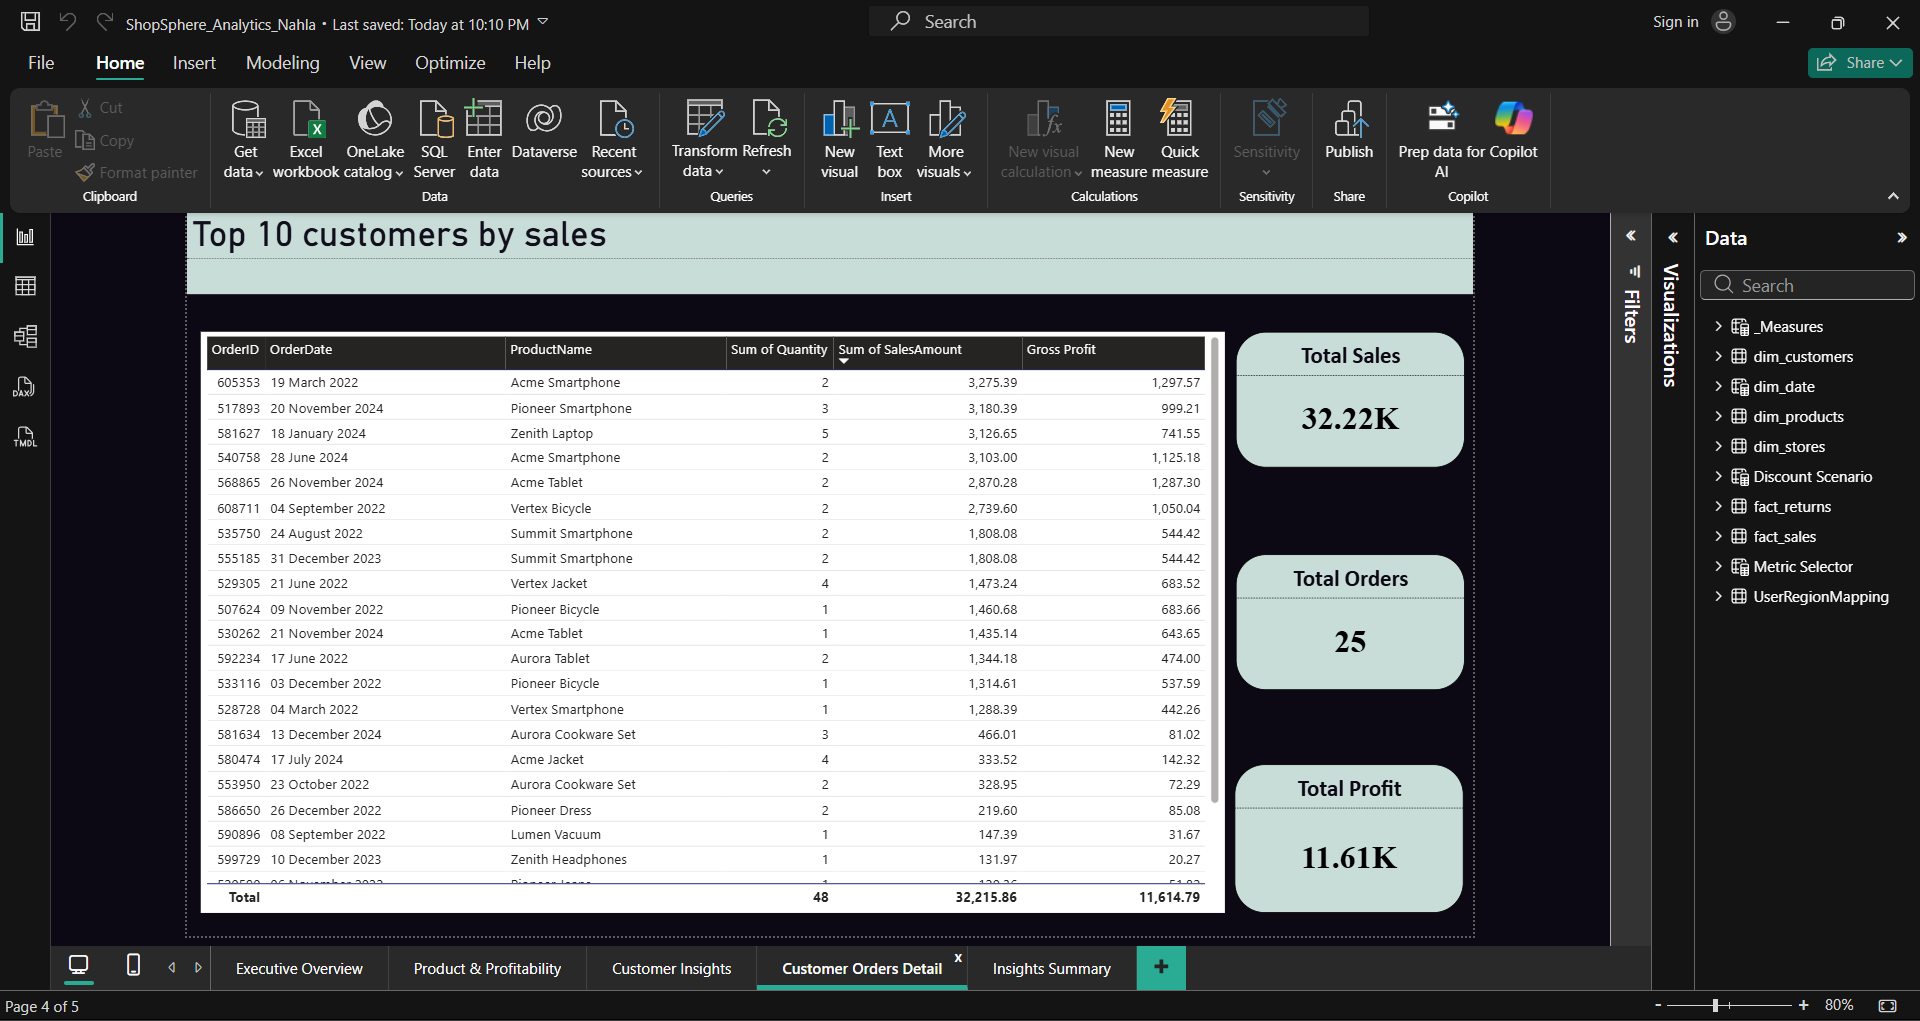

Layout of this report page (visuals, bound fields, positions):
{"tool":"powerbi","page":{"name":"Customer Orders Detail","canvas":[1280,720],"ordinal":3},"visuals":[{"type":"actionButton","box":[0,0,100,40],"z":0},{"type":"tableEx","fields":{"Values":["fact_sales.OrderID","fact_sales.OrderDate","dim_products.ProductName","Sum(fact_sales.Quantity)","Sum(fact_sales.SalesAmount)","_Measures.Gross Profit"]},"box":[13.7,118.2,1018.8,578.4],"z":1000},{"type":"card","title":"Total Sales","fields":{"Values":["_Measures.Total Sales"]},"box":[1043.7,118.2,227.6,135.6],"z":2000},{"type":"card","title":"Total Orders","fields":{"Values":["_Measures.Total Orders"]},"box":[1043.7,339.6,227.6,135.6],"z":3000},{"type":"card","title":"Total Profit","fields":{"Values":["_Measures.Gross Profit"]},"box":[1042.4,548.6,227.6,148],"z":4000},{"type":"textbox","title":"Top 10 customers by sales","box":[0,0,1280,80.9],"z":5000}]}

Visuals, with their boxes on the page's 1280x720 design canvas (x1, y1, x2, y2). These are canvas units, not pixel positions in the 1920x1021 screenshot, which may show the page scaled, cropped or inside an application window:
actionButton: 0, 0, 100, 40
tableEx - fact_sales.OrderID x fact_sales.OrderDate: 14, 118, 1032, 697
"Total Sales" card: 1044, 118, 1271, 254
"Total Orders" card: 1044, 340, 1271, 475
"Total Profit" card: 1042, 549, 1270, 697
"Top 10 customers by sales" textbox: 0, 0, 1280, 81
